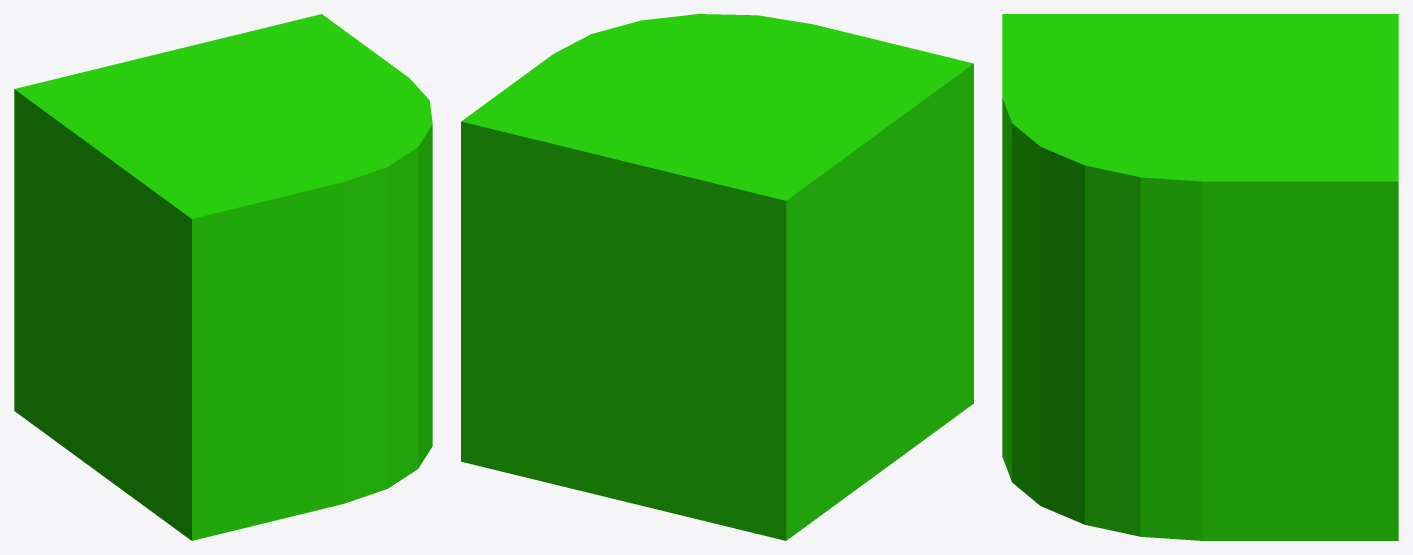
File: Tek_Tarafl_Kose.fbx
3 views of the same model, side by side, from view 1: azimuth 30°, elevation 25°; view 2: azimuth 150°, elevation 25°; view 3: azimuth 270°, elevation 25° (orthographic). The views are drawn at different scales.
Visible parts, largest first — view 1: Cube; view 2: Cube; view 3: Cube.
Part boxes in pixels (box(x1,y1,x2,y2)): Cube: box(14, 14, 432, 540); Cube: box(461, 14, 973, 540); Cube: box(1002, 14, 1398, 540).
Size of the model in its own units: 200 by 200 by 200.
